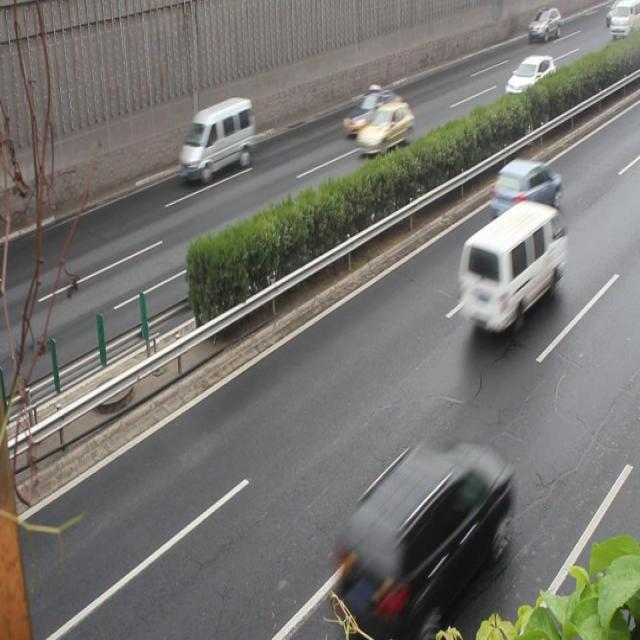car: (342, 444, 507, 613), (489, 157, 562, 220), (355, 101, 413, 155), (342, 87, 402, 138), (504, 54, 556, 98)
truck: (457, 200, 564, 331), (180, 99, 253, 178)
